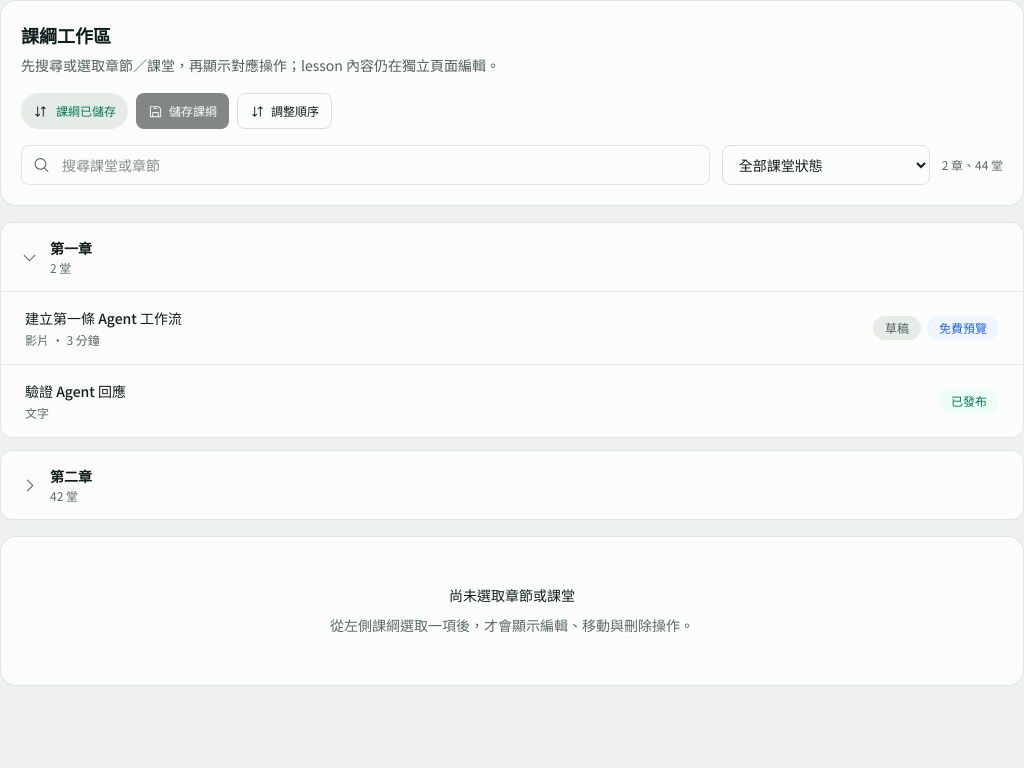
Scenario: CourseOutlineEditor › keeps a 40+ lesson outline collapsed and locates one lesson with chapter context
Expected: the text "建立第一條 Agent 工作流" is shown, x1=25 y1=308 x2=182 y2=328
Expected: the text "大型課程快速定位" is not shown
In the search field labelled "搜尋課堂或章節": (365, 165) x1=21 y1=145 x2=710 y2=185, type "大型課程快速定位"
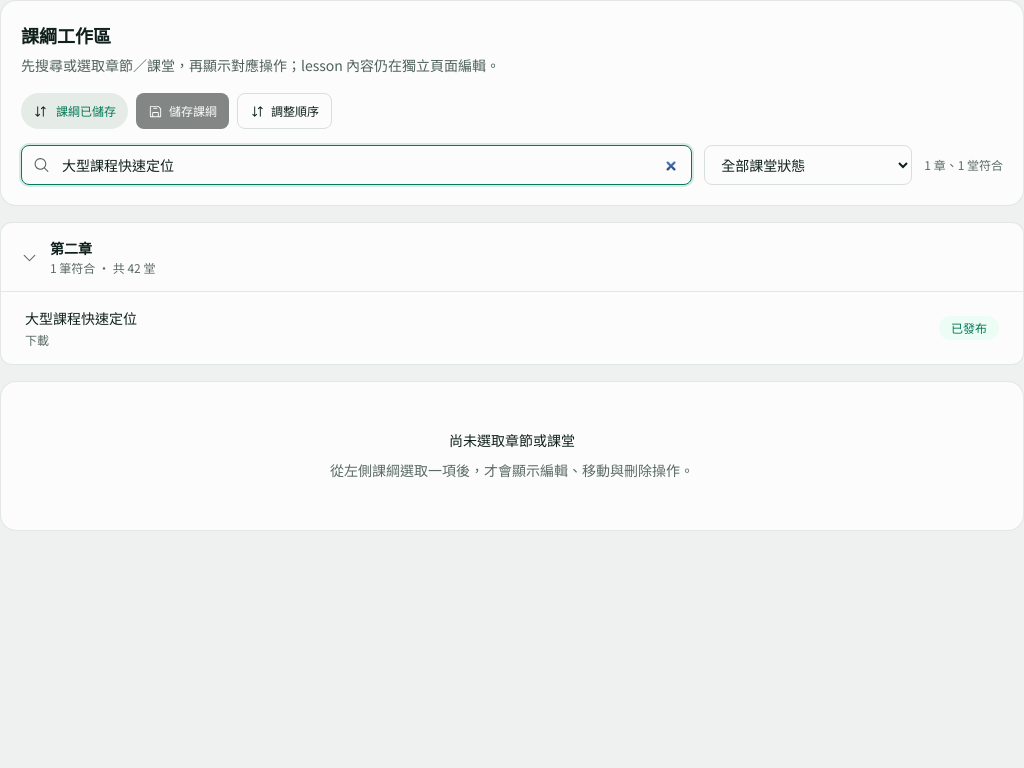
Result: the text "大型課程快速定位" is shown at x1=25 y1=308 x2=137 y2=328
Result: the text "1 章、1 堂符合" is shown at x1=924 y1=157 x2=1003 y2=173
Result: the button "第二章 1 筆符合 · 共 42 堂" is expanded at x1=13 y1=235 x2=1011 y2=279
